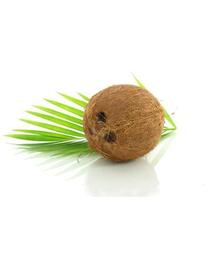coconut: (82, 84, 163, 162)
